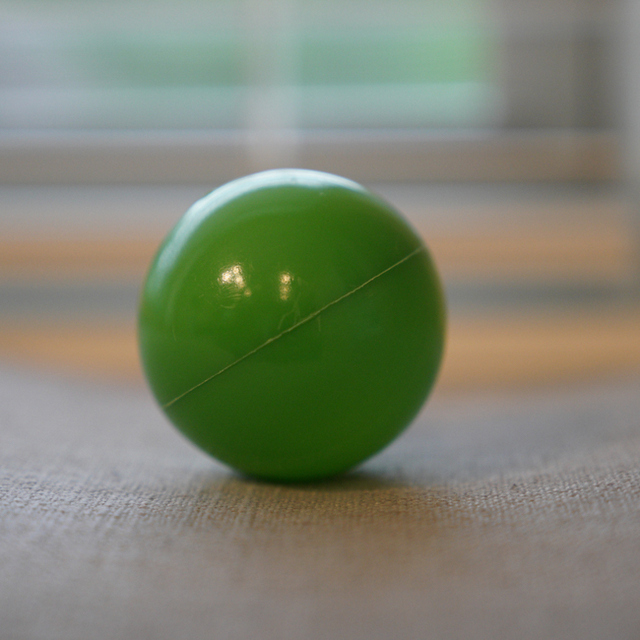Ball: (136, 169, 446, 479)
